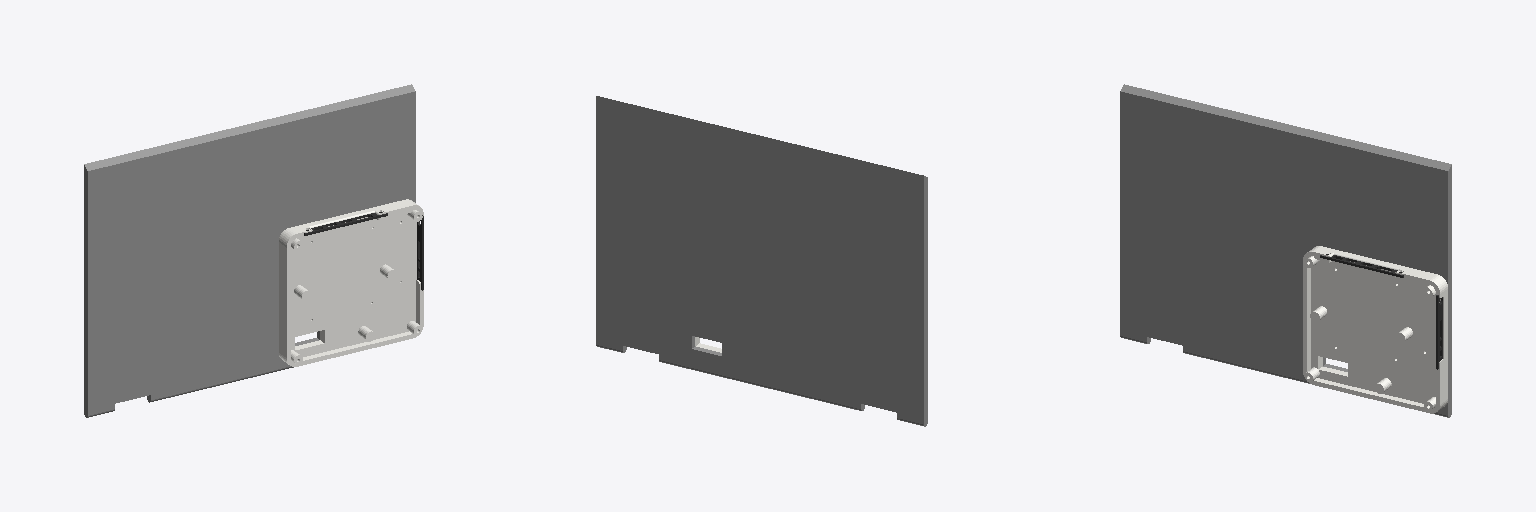
The model's file is screenadjustments.obj.
The picture shows the model from 3 angles: view 1: azimuth 30°, elevation 25°; view 2: azimuth 150°, elevation 25°; view 3: azimuth 330°, elevation 25°; orthographic projection.
Parts seen in each view (by area): view 1: Body1, Body1:2; view 2: Body1; view 3: Body1, Body1:2.
Part boxes in pixels (x1,y1,x2,y2): Body1: (84,84,415,417); Body1:2: (279,199,423,366); Body1: (596,96,927,426); Body1: (1120,84,1451,417); Body1:2: (1303,246,1447,413).
Bounding box in the file's own units: 30.7 × 22.55 × 2.53.